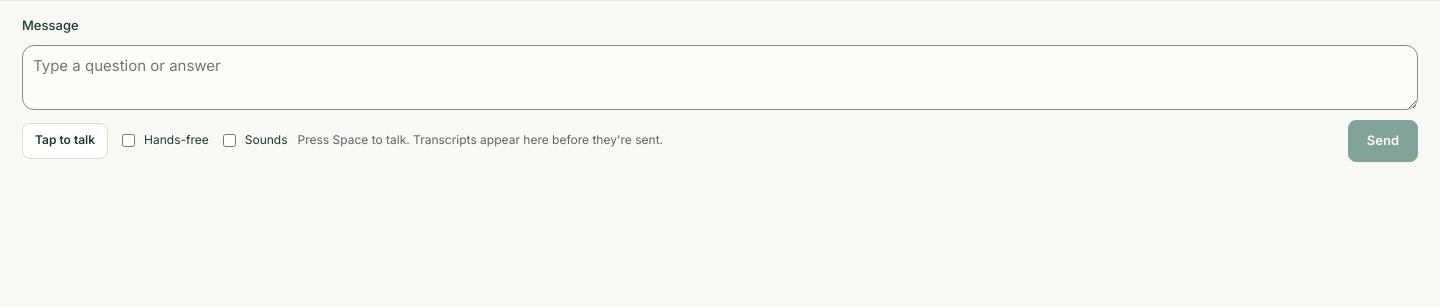
Test case: voice input caps in the composer › a busy free voice service is explained, and voice can be tried again later
Click the button "Tap to talk" at (65, 141), box [22, 123, 108, 159]
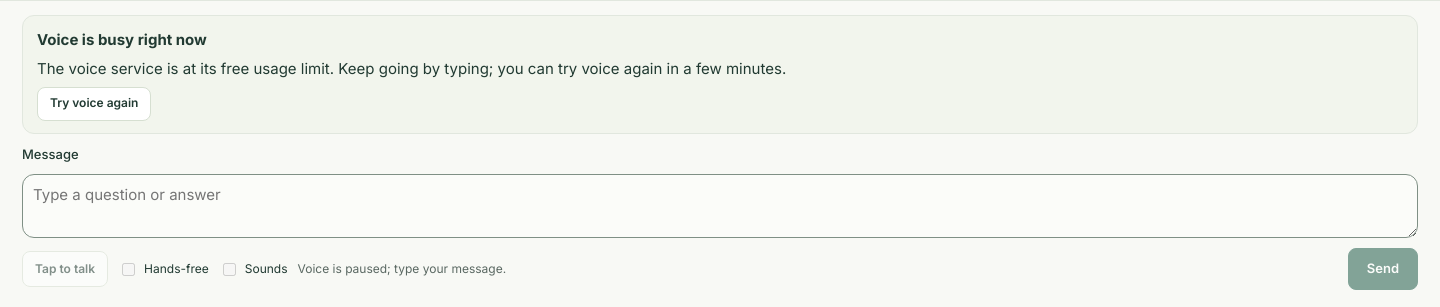
expect the message with test id "voice-busy" shows "Voice is busy right now": met, box [37, 30, 207, 49]
expect the button "Tap to talk" is disabled: met, box [22, 251, 108, 287]
Click the button "Try voice again" at (94, 104), box [37, 86, 151, 120]
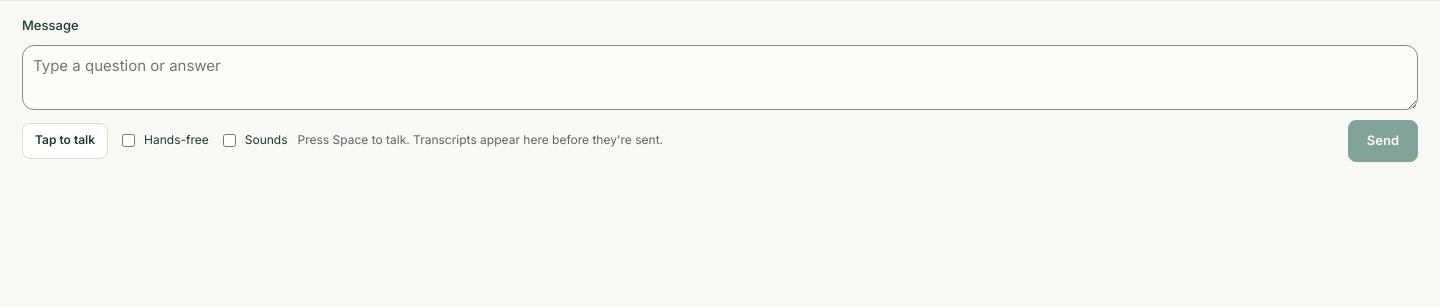
expect the message with test id "voice-busy" is gone: met
expect the button "Tap to talk" is enabled: met, box [22, 123, 108, 159]
